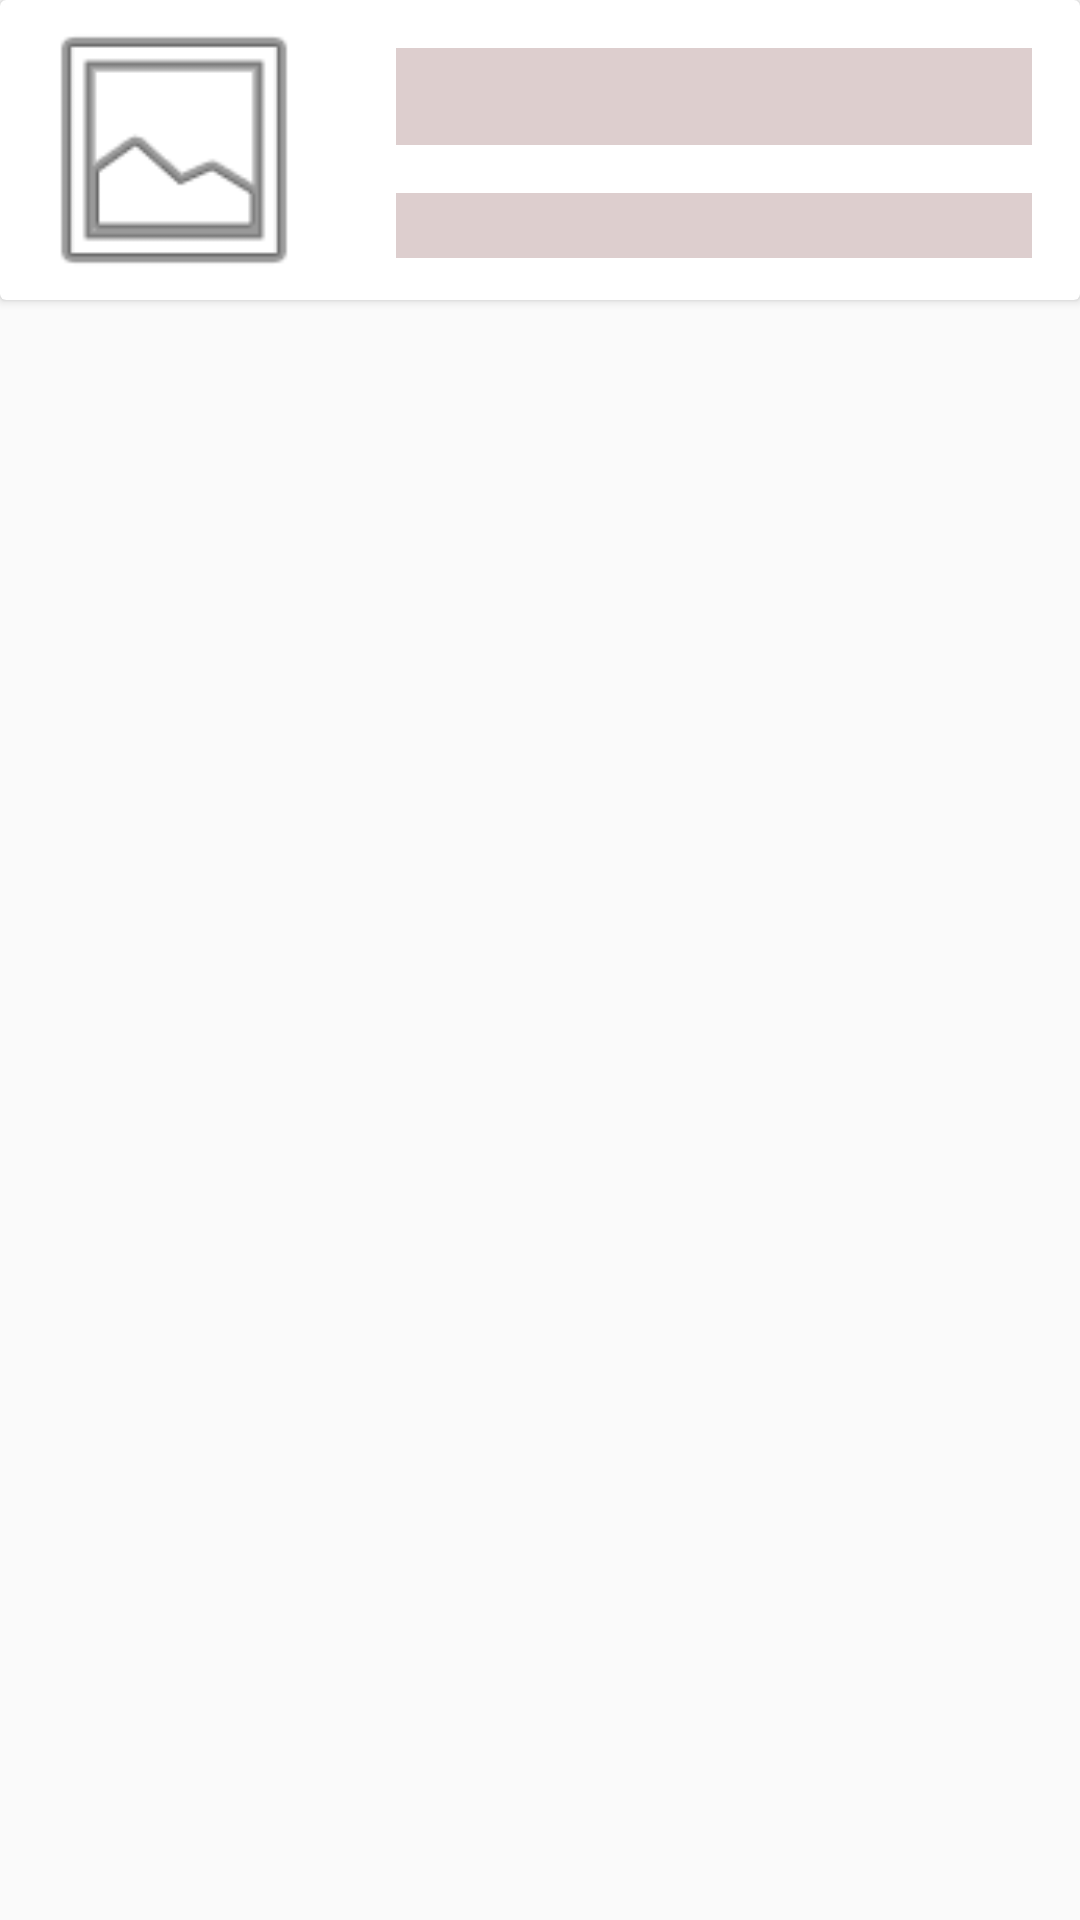

Icons on this 1080*1920 Android screen, each with the point to tap as (x=x, y=y):
gallery: (x=143, y=131)
